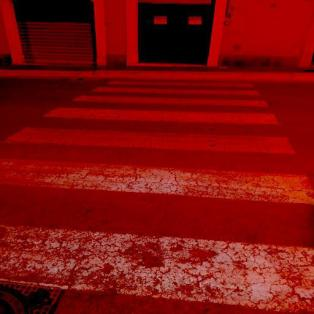Paso de Cebra: (2, 156, 314, 313), (39, 94, 284, 127)
